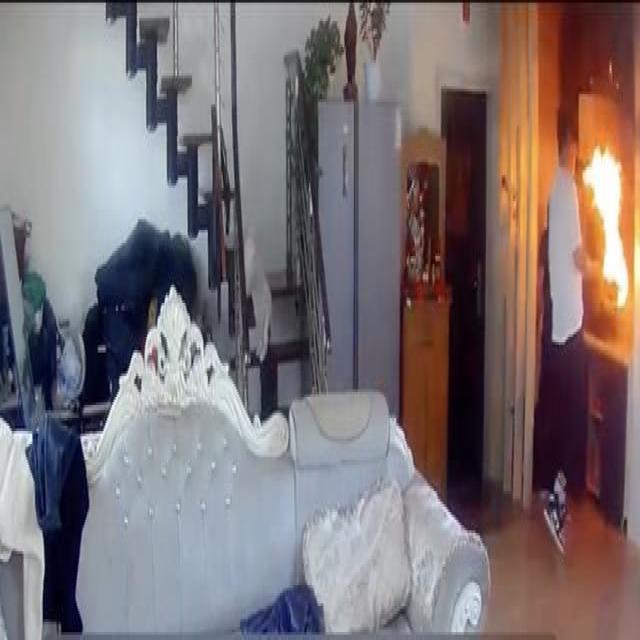smoke: (580, 128, 634, 319)
